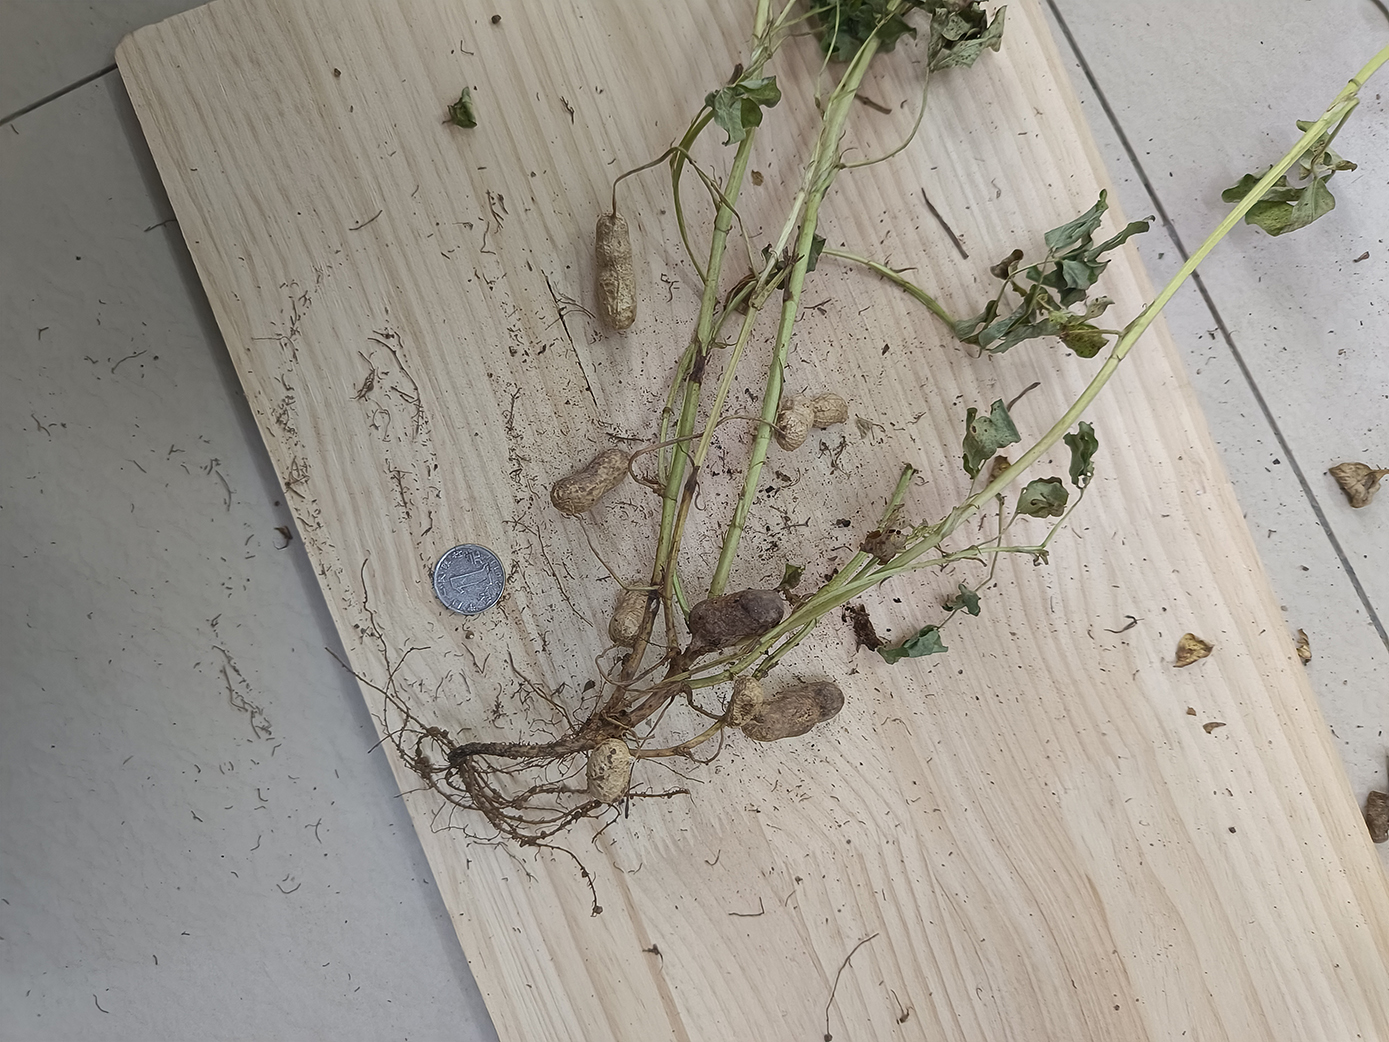h: (549, 447, 634, 511), (595, 212, 638, 329), (773, 394, 849, 451), (586, 739, 630, 803), (609, 578, 651, 642), (725, 674, 760, 728)
l: (746, 684, 842, 743), (688, 588, 784, 645)
